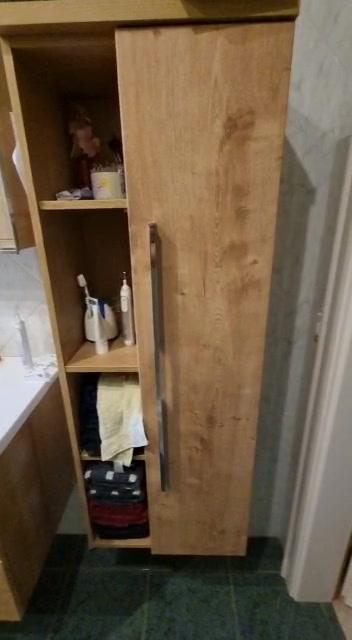cabinet_door: (131, 0, 276, 569)
handle: (142, 216, 175, 495)
